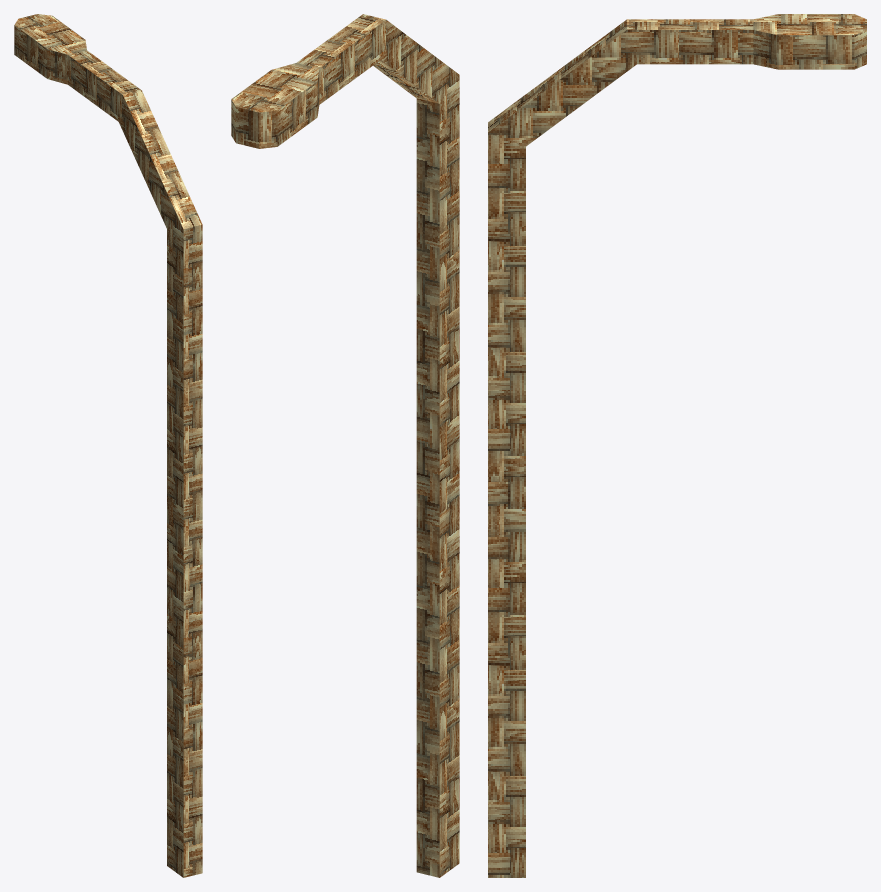
Rendered from TWAAI pole.gltf.
The picture shows the model from 3 angles, left to right: view 1: azimuth 30°, elevation 25°; view 2: azimuth 150°, elevation 25°; view 3: azimuth 270°, elevation 25°; orthographic projection. The views are drawn at different scales.
Visible parts, largest first — view 1: Lamp_Post; view 2: Lamp_Post; view 3: Lamp_Post.
Part boxes in pixels (x1,y1,x2,y2): Lamp_Post: (14, 14, 202, 877); Lamp_Post: (231, 14, 459, 877); Lamp_Post: (488, 14, 866, 877).
Size of the model in its own units: 0.432 by 8 by 3.24.
2 materials, 2 textured.
